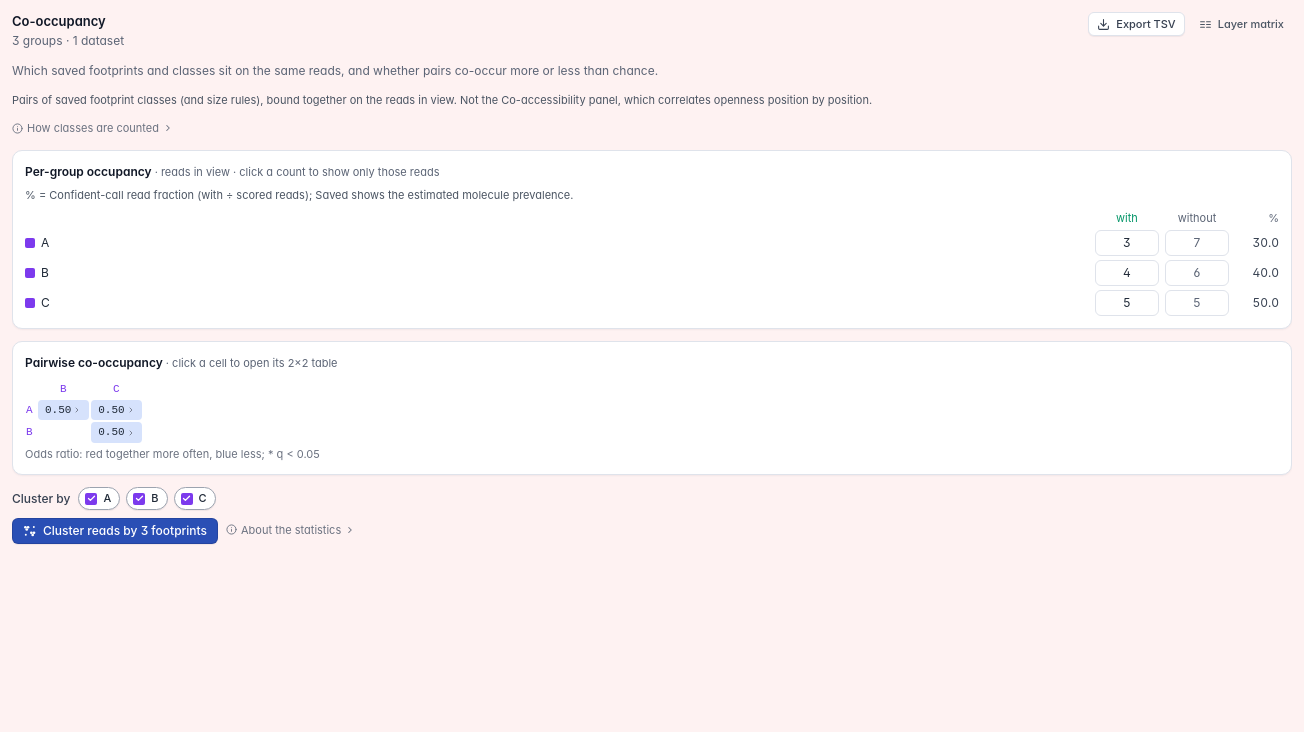
Test: Co-occupancy tab: what opens and what filters is explicit › matrix cells are disclosures: aria-expanded, a chevron, and they open the 2×2 table they control
The width and height of the screenshot is (1304, 732).
Click the button with test id "coocc-pair-cell".
click(116, 410)  # box x1=91 y1=400 x2=142 y2=420
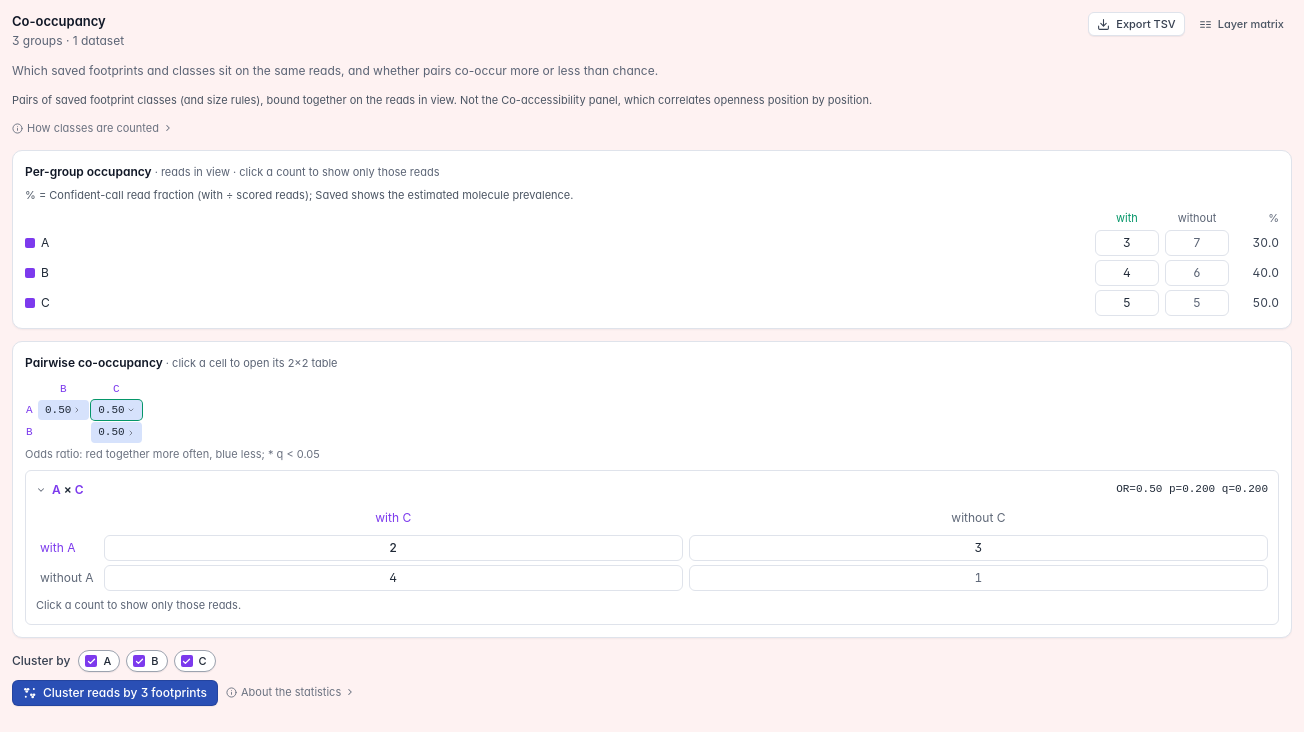
Expected: the button with test id "coocc-pair-cell" is expanded, x1=91 y1=400 x2=142 y2=420
# Its own header closes it again.
Click the button "A × C".
click(41, 490)  # box x1=36 y1=481 x2=1112 y2=499
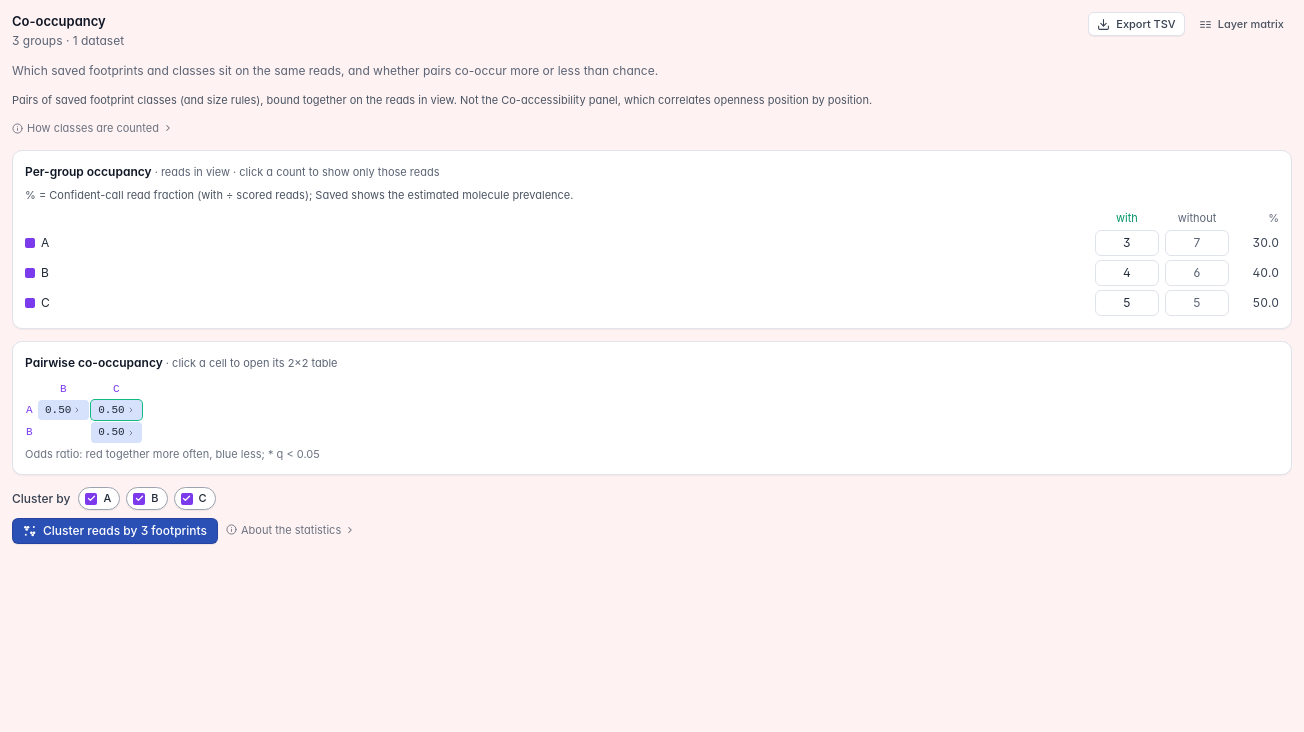
Expected: the button with test id "coocc-pair-cell" is collapsed, x1=91 y1=400 x2=142 y2=420
